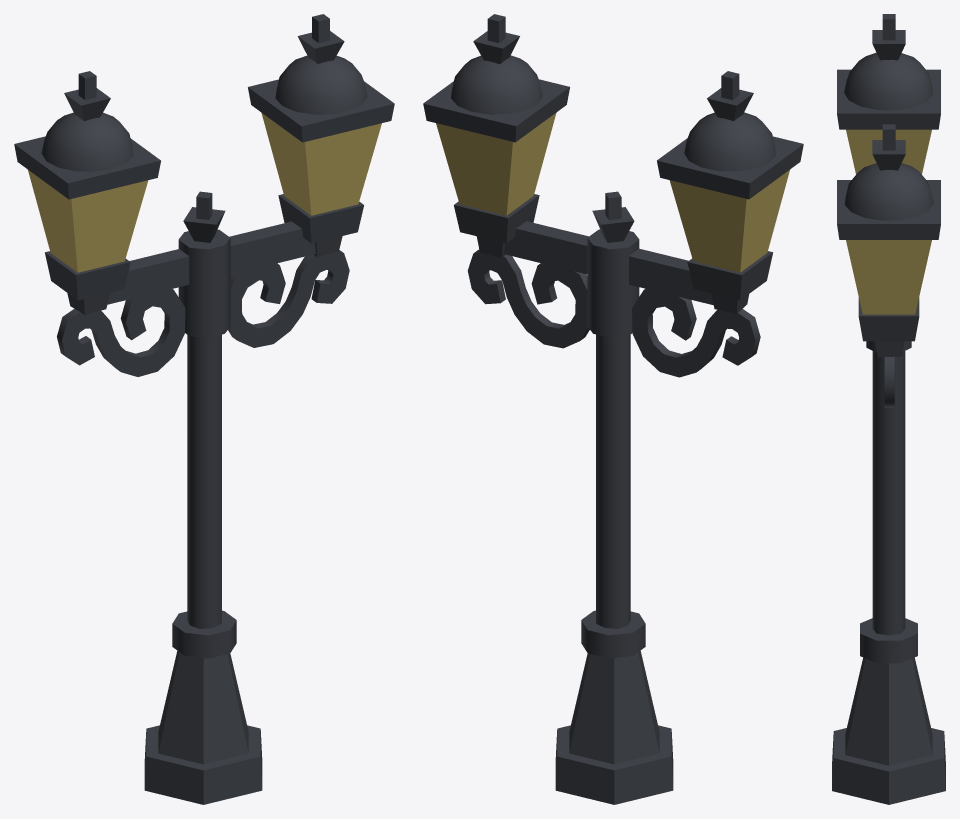
Rendered from lamp_v6.fbx.
3 views of the same model, side by side, from view 1: azimuth 30°, elevation 25°; view 2: azimuth 150°, elevation 25°; view 3: azimuth 270°, elevation 25° (orthographic). The views are drawn at different scales.
Parts seen in each view (by area): view 1: lamp_v6; view 2: lamp_v6; view 3: lamp_v6.
Boxes of the visible parts, x1,y1,x2,y2 form: lamp_v6: [14, 14, 394, 804]; lamp_v6: [423, 14, 803, 804]; lamp_v6: [832, 14, 945, 804].
Size of the model in its own units: 169 by 360 by 52.64.
